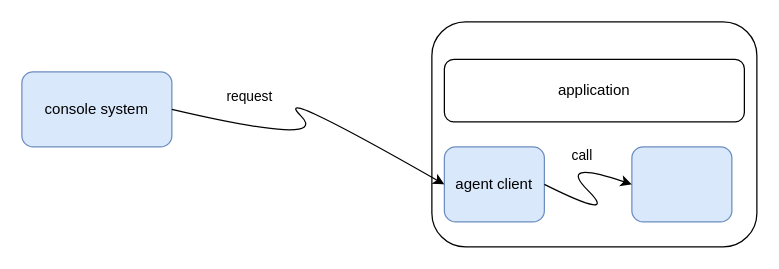
This 779x269 diagram has some shape labels left out. The box of each missing label's shape, as (x1, y1, x2, y2) in pixels:
agent: (631, 146, 732, 222)
jvm in container: (431, 21, 757, 247)
